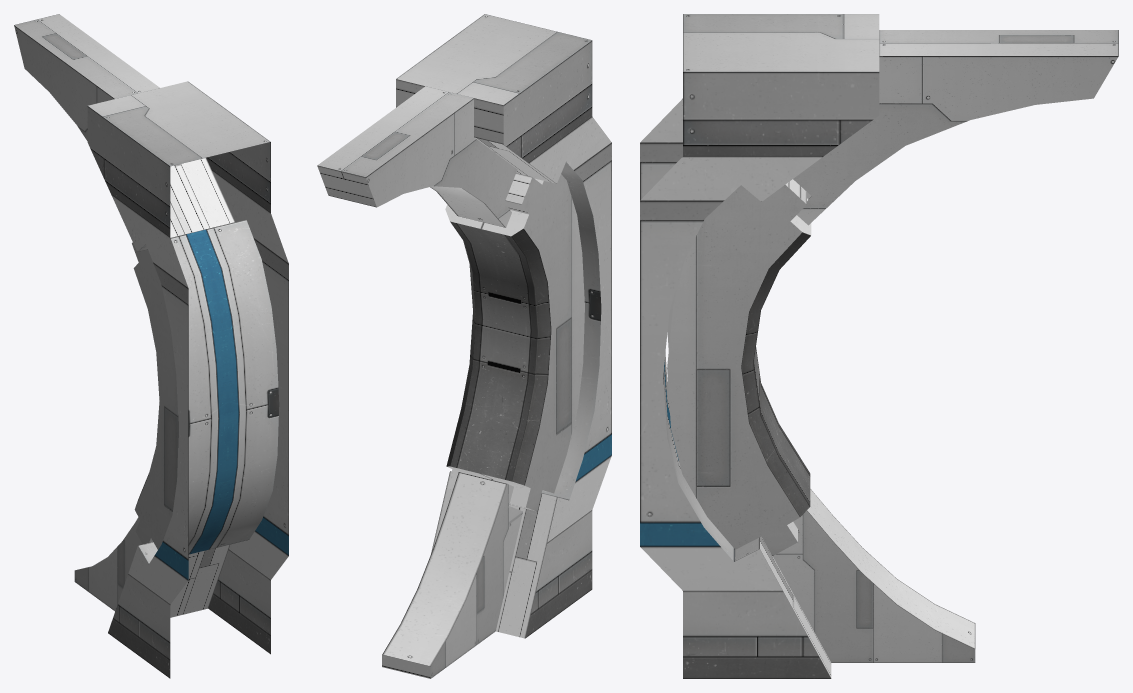
File: Arch_01.FBX
The picture shows the model from 3 angles, left to right: view 1: azimuth 30°, elevation 25°; view 2: azimuth 150°, elevation 25°; view 3: azimuth 270°, elevation 25°; orthographic projection. The views are drawn at different scales.
Visible parts, largest first — view 1: Arch_01; view 2: Arch_01; view 3: Arch_01.
Boxes of the visible parts, bbox=[...] form: Arch_01: bbox=[14, 14, 288, 678]; Arch_01: bbox=[317, 14, 611, 678]; Arch_01: bbox=[640, 14, 1118, 678].
Size of the model in its own units: 28.72 by 140 by 100.
